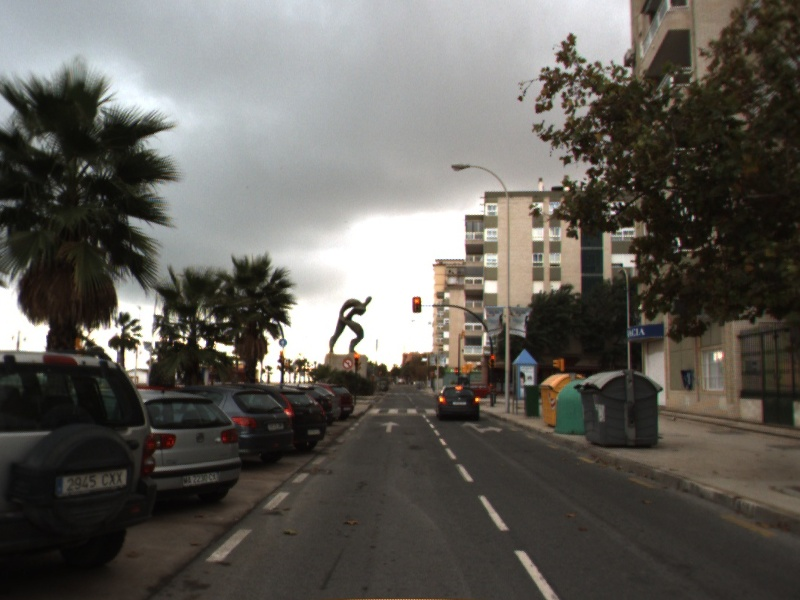STRAIGHT: (379, 420, 402, 434)
STRAIGHT_RIGHT: (460, 419, 505, 435)
